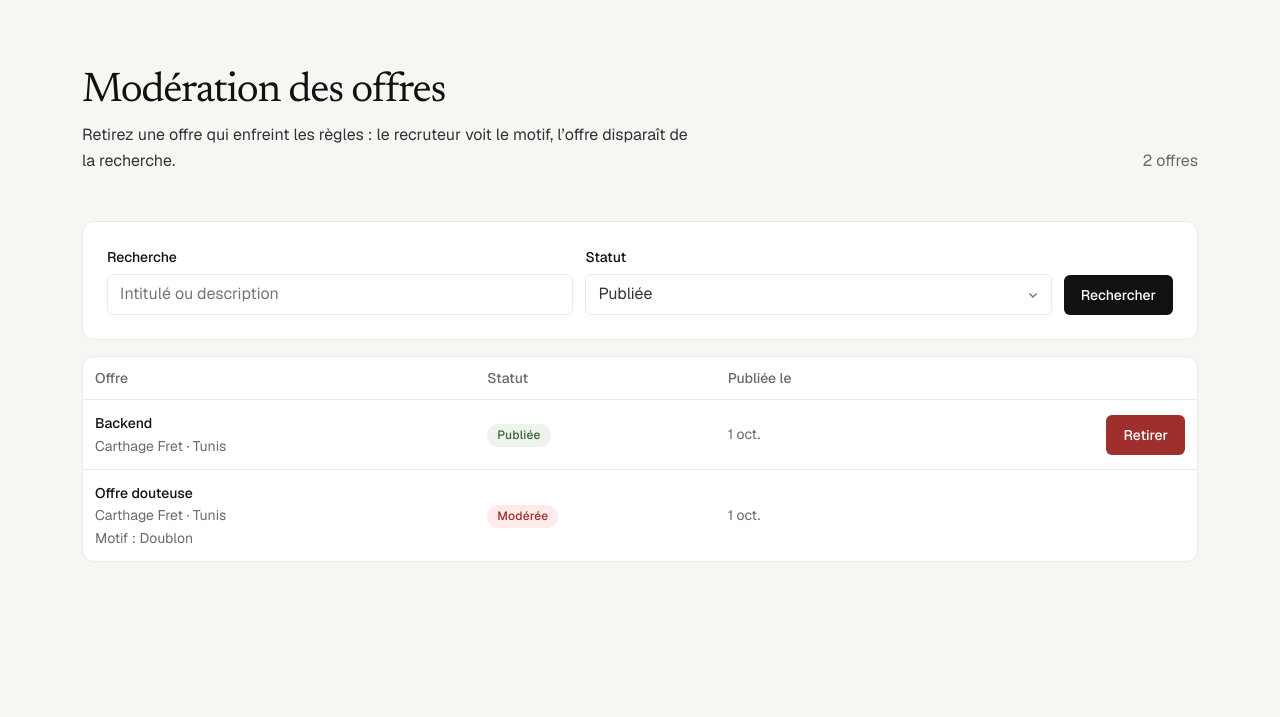
it: admin job moderation › requires a reason before withdrawing an offer
Click the button with aria-label "Retirer l’offre Backend".
click(1146, 435)  # box [1106,415,1185,455]
(page scrolled)
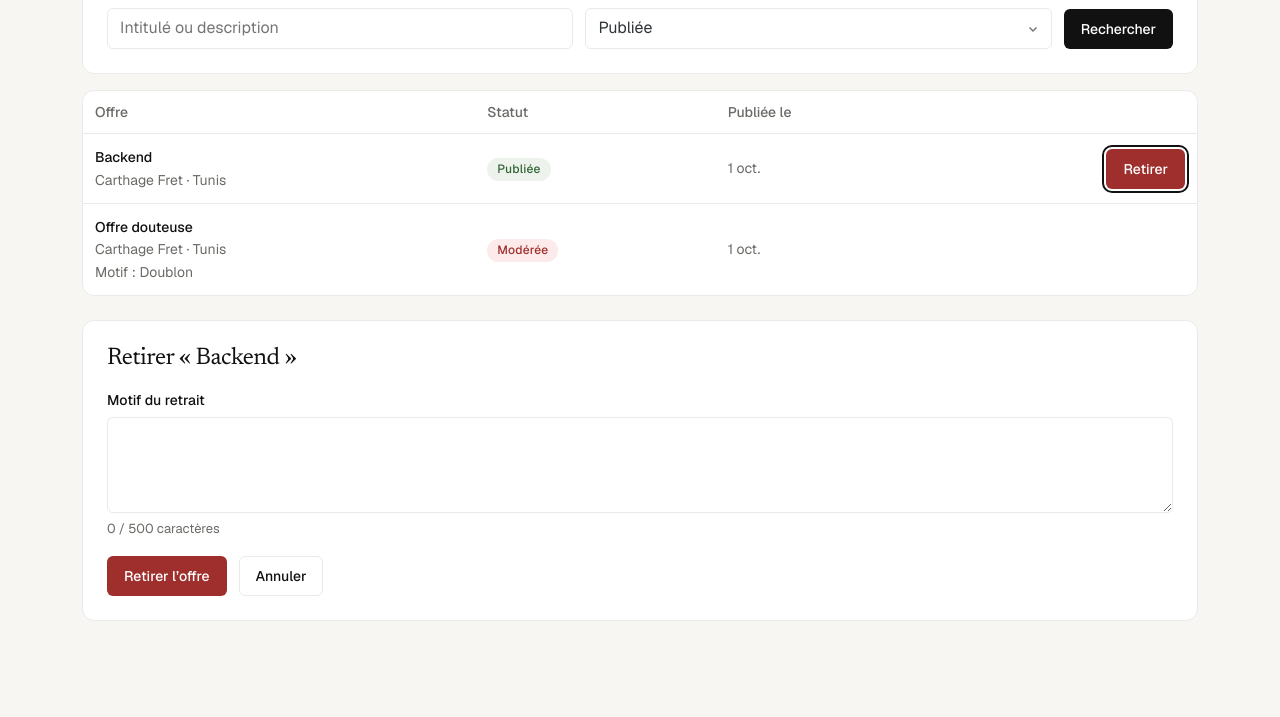
Click the button "Retirer l’offre".
click(167, 576)  # box [107,556,226,596]
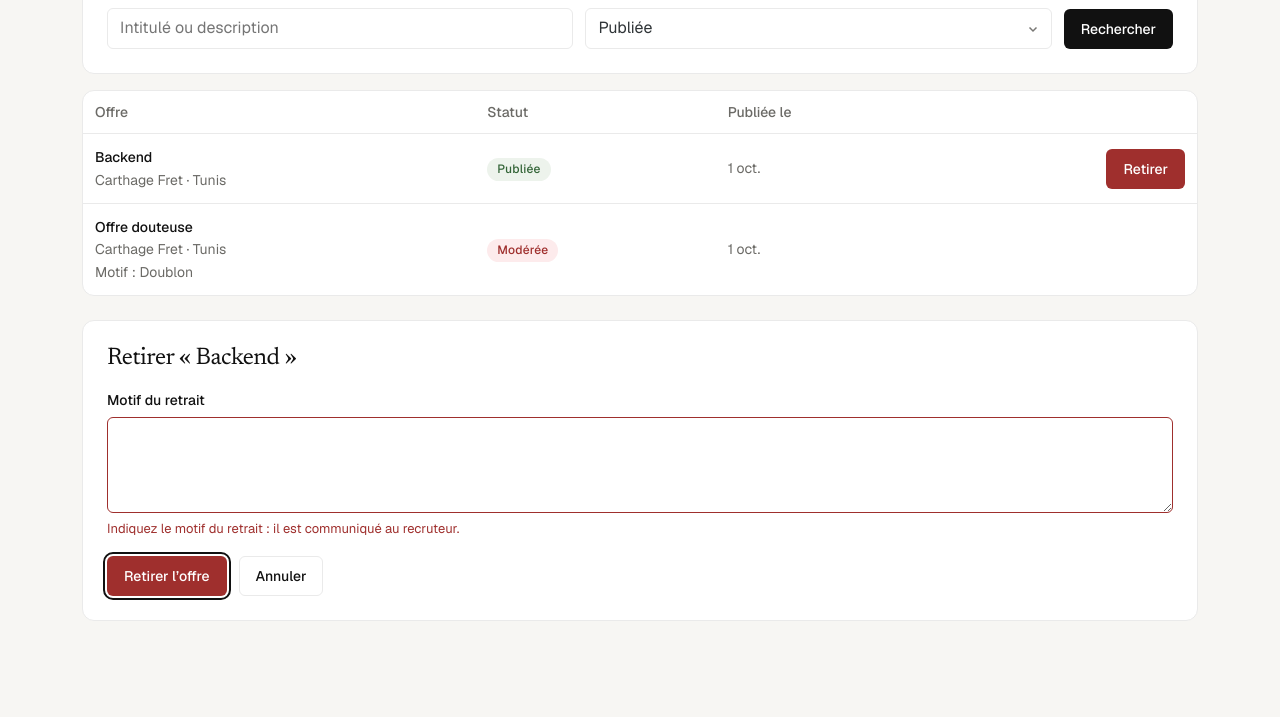
Check: the text "Indiquez le motif du retrait : il est communiqué au recruteur." is shown, box [107,520,459,537]
